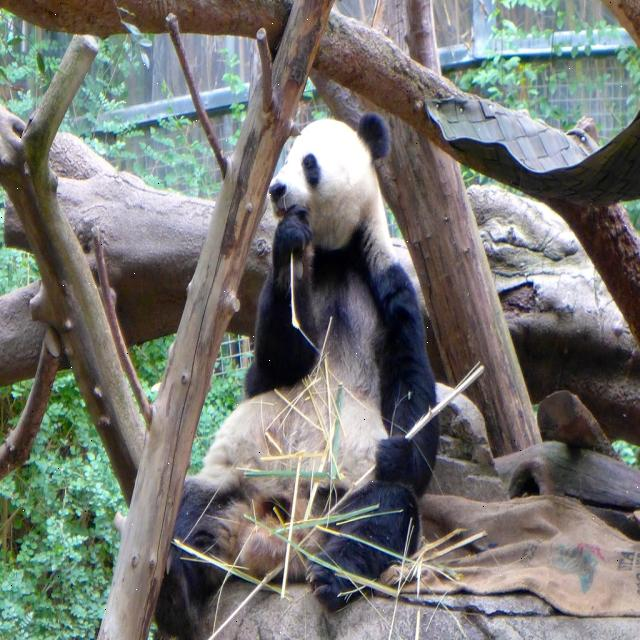panda: (155, 110, 436, 638)
